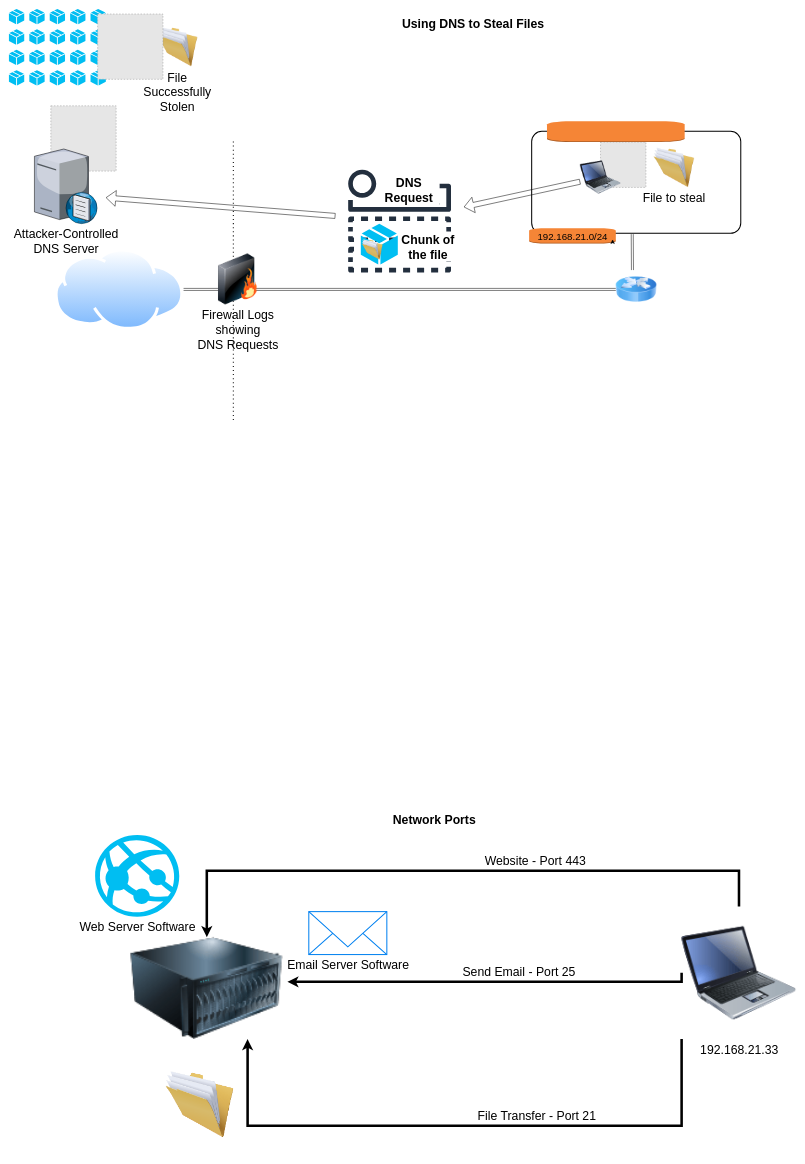
This 805x1164 diagram has some shape labels left out. Grey dashed boxes stand in for pictures. The box of each missing label's shape, as (x1, y1, x2, y2) in pixels:
File Server Software: (161, 1071, 238, 1137)
Infected PC: (580, 151, 621, 202)
Server: (125, 937, 288, 1039)
Workstation Segment: (546, 121, 685, 142)
